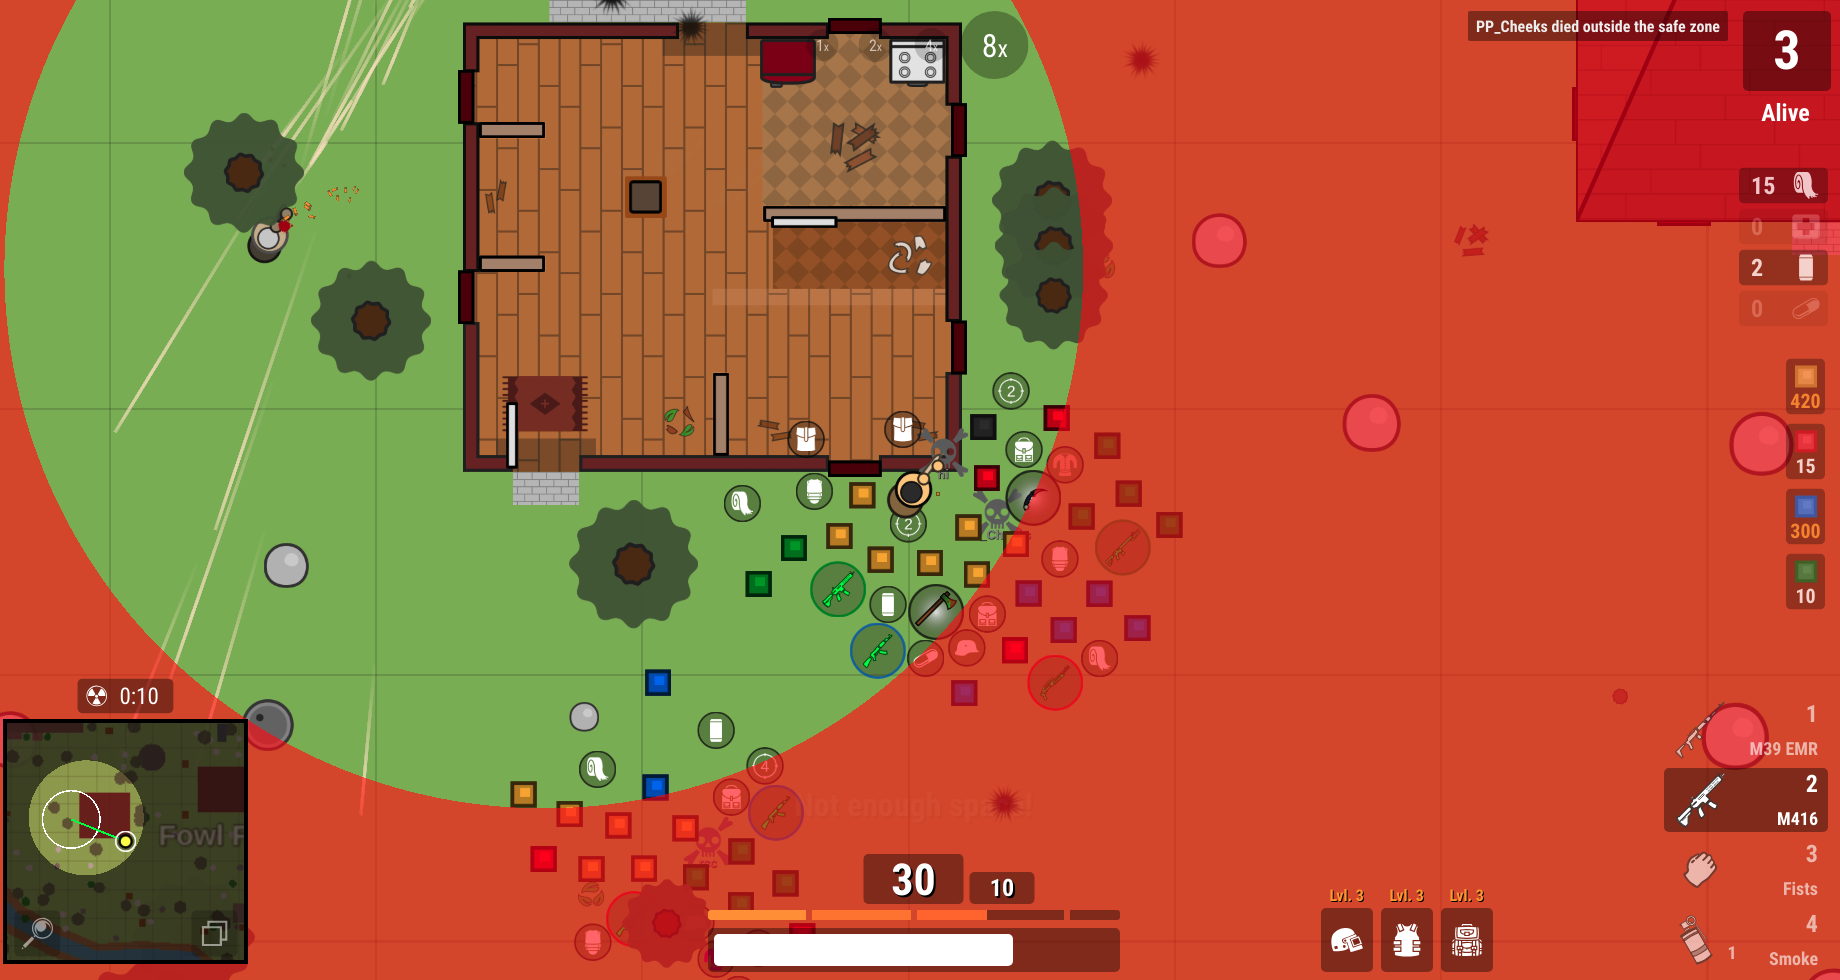Player: (237, 178, 317, 266), (884, 433, 953, 521)
